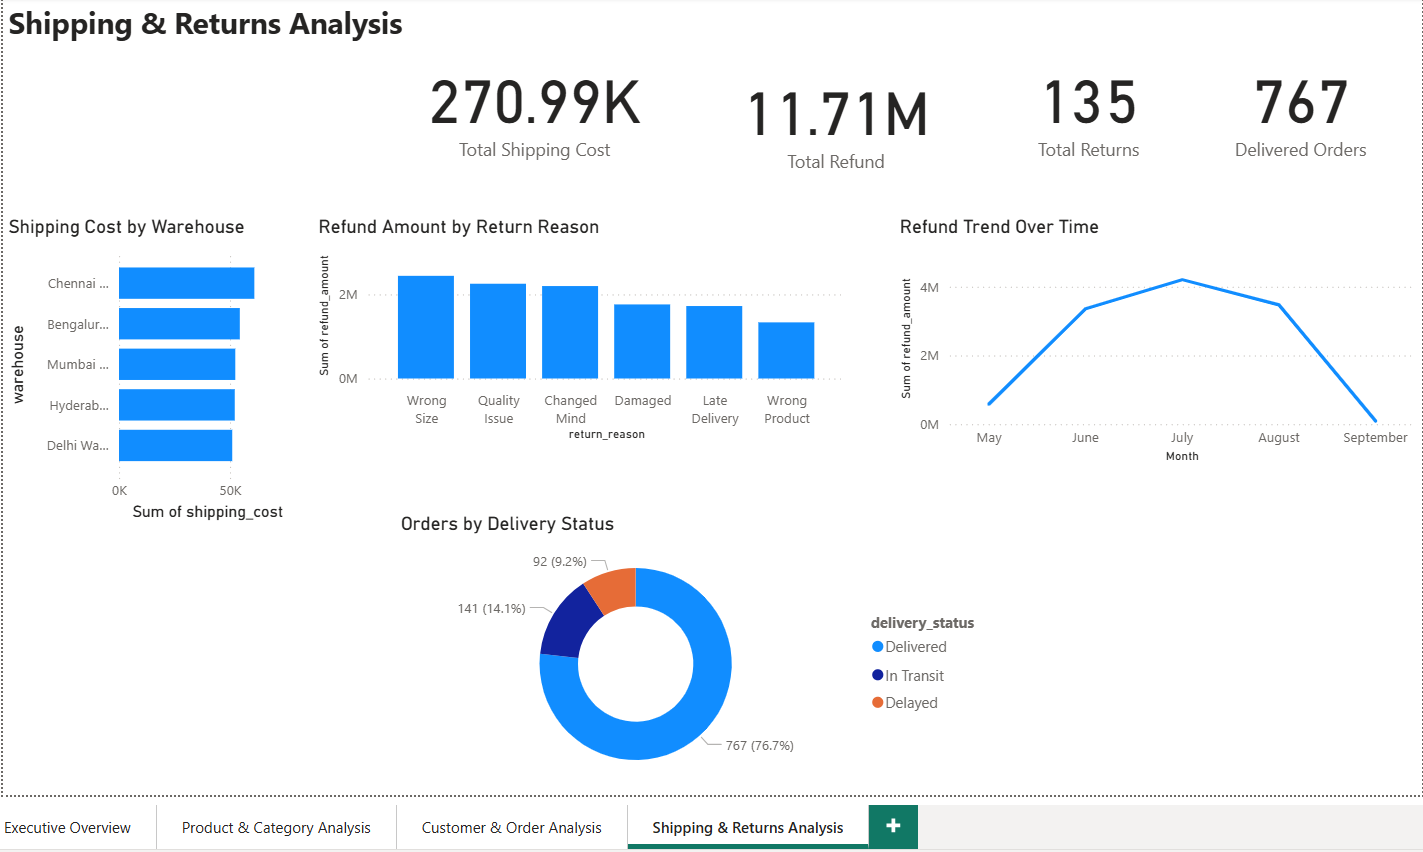

The page's visual inventory and layout, read from the dashboard file:
{"tool":"powerbi","page":{"name":"Shipping & Returns Analysis","canvas":[1280,720],"ordinal":3},"visuals":[{"type":"card","fields":{"Values":["customers.Total Returns"]},"box":[862.8,0,233.7,197.7],"z":1},{"type":"card","fields":{"Values":["customers.Delivered Orders"]},"box":[1060.4,0,219.3,197.7],"z":2},{"type":"card","fields":{"Values":["orders.Total Refund"]},"box":[640.6,10.1,222.2,199.1],"z":3},{"type":"card","fields":{"Values":["orders.Total Shipping Cost"]},"box":[366.5,0,226.5,197.7],"z":4},{"type":"donutChart","title":"Orders by Delivery Status","fields":{"Category":["shipping.delivery_status"],"Y":["CountNonNull(shipping.shipping_id)"]},"box":[353.5,464.6,542.5,255.4],"z":5},{"type":"clusteredColumnChart","title":"Refund Amount by Return Reason","fields":{"Category":["returns.return_reason"],"Y":["Sum(returns.refund_amount)"]},"box":[279.9,197.7,484.8,207.8],"z":6},{"type":"barChart","title":"Shipping Cost by Warehouse","fields":{"Category":["shipping.warehouse"],"Y":["Sum(shipping.shipping_cost)"]},"box":[0,197.7,279.9,279.9],"z":7},{"type":"lineChart","title":"Refund Trend Over Time","fields":{"Category":["returns.return_date.Variation.Date Hierarchy.Month","returns.return_date.Variation.Date Hierarchy.Day"],"Y":["Sum(returns.refund_amount)"]},"box":[803.6,197.7,476.1,228],"z":8},{"type":"textbox","box":[0,0,366.5,187.6],"z":9}]}

Visuals, with their boxes on the page's 1280x720 design canvas (x1, y1, x2, y2). These are canvas units, not pixel positions in the 1423x852 screenshot, which may show the page scaled, cropped or inside an application window:
card - customers.Total Returns: <bbox>863, 0, 1096, 198</bbox>
card - customers.Delivered Orders: <bbox>1060, 0, 1280, 198</bbox>
card - orders.Total Refund: <bbox>641, 10, 863, 209</bbox>
card - orders.Total Shipping Cost: <bbox>366, 0, 593, 198</bbox>
"Orders by Delivery Status" donutChart: <bbox>354, 465, 896, 720</bbox>
"Refund Amount by Return Reason" clusteredColumnChart: <bbox>280, 198, 765, 406</bbox>
"Shipping Cost by Warehouse" barChart: <bbox>0, 198, 280, 478</bbox>
"Refund Trend Over Time" lineChart: <bbox>804, 198, 1280, 426</bbox>
textbox: <bbox>0, 0, 366, 188</bbox>
